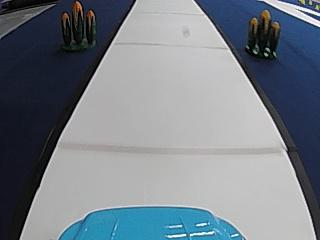corn: (53, 1, 101, 54), (243, 10, 283, 58)
